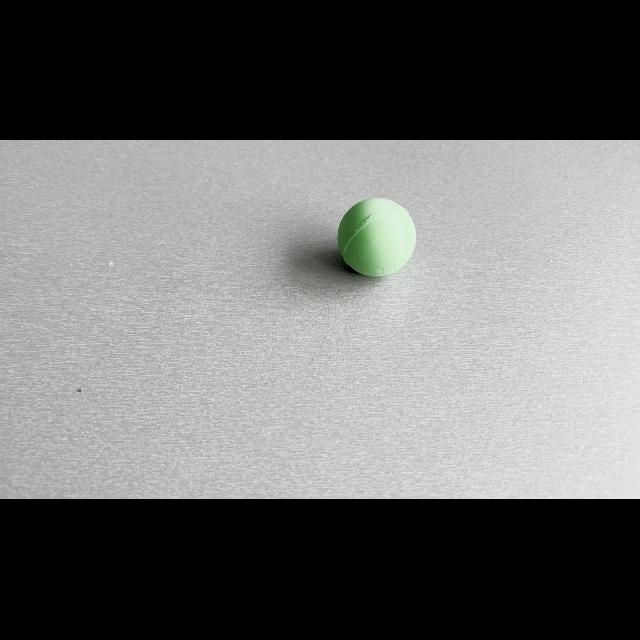objects: (332, 194, 420, 280)
